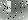person: (5, 3, 11, 16)
